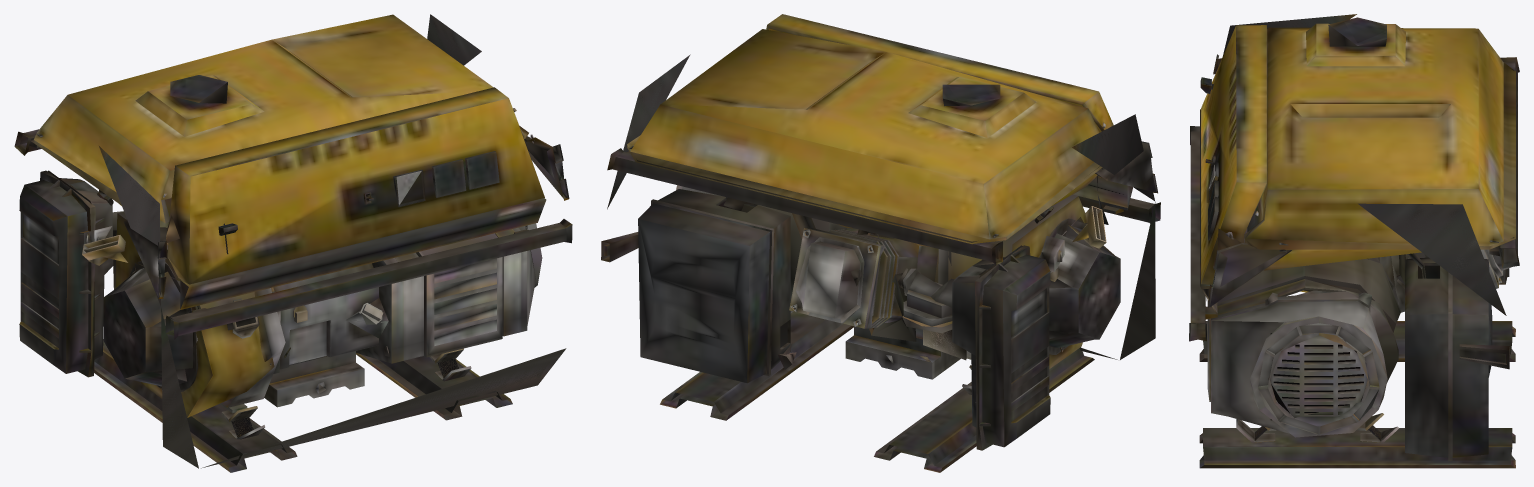
Rendered from generator.glb.
3 views of the same model, side by side, from view 1: azimuth 30°, elevation 25°; view 2: azimuth 150°, elevation 25°; view 3: azimuth 270°, elevation 25° (orthographic). The views are drawn at different scales.
Parts seen in each view (by area): view 1: generator; view 2: generator; view 3: generator.
Boxes of the visible parts, left/top/right/bottom form: generator: left=14, top=14, right=572, bottom=472; generator: left=601, top=14, right=1160, bottom=472; generator: left=1189, top=14, right=1519, bottom=468.
Bounding box in the file's own units: 0.8086 × 0.5746 × 0.5382.
Materials: 2 (2 with a texture image).
